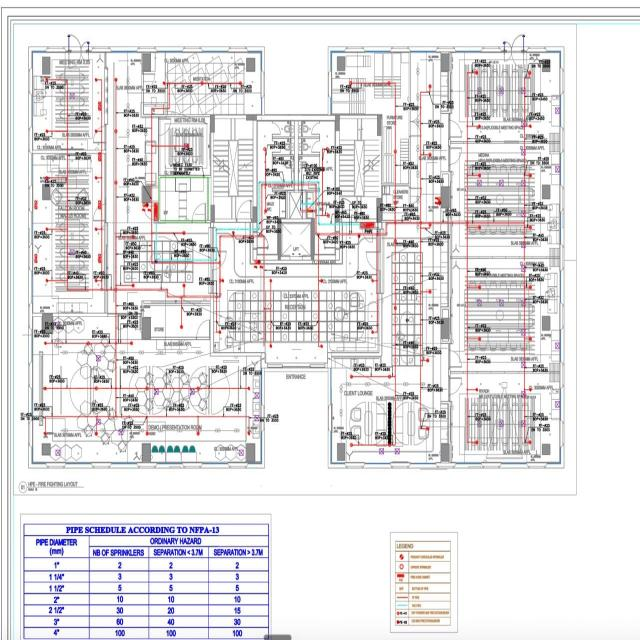branch_pipe: (36, 399, 254, 447), (339, 73, 401, 219), (41, 411, 252, 440), (390, 79, 400, 454), (113, 74, 121, 419), (42, 383, 254, 393), (42, 338, 144, 349), (160, 79, 245, 87), (349, 441, 395, 452), (349, 371, 396, 381), (150, 105, 168, 116), (167, 78, 172, 114)
sprinkler: (401, 380, 411, 390), (125, 204, 132, 218), (125, 75, 132, 88), (125, 101, 132, 114), (157, 426, 166, 436), (362, 381, 372, 390), (418, 380, 428, 389), (416, 143, 422, 158), (118, 349, 129, 357), (125, 153, 132, 165), (416, 91, 422, 105), (136, 426, 146, 434), (175, 427, 185, 435), (137, 349, 147, 357), (80, 428, 89, 436), (214, 426, 222, 435), (176, 348, 185, 356), (232, 427, 242, 434), (382, 381, 392, 388), (415, 67, 422, 77), (416, 194, 421, 207), (195, 349, 203, 357), (61, 428, 70, 435), (61, 349, 70, 356), (100, 350, 109, 357), (416, 118, 421, 130), (415, 168, 420, 180), (157, 348, 164, 356), (339, 382, 343, 396), (345, 381, 353, 388), (339, 407, 344, 418), (126, 127, 131, 138), (100, 427, 107, 434), (80, 349, 88, 355), (144, 154, 148, 166)
